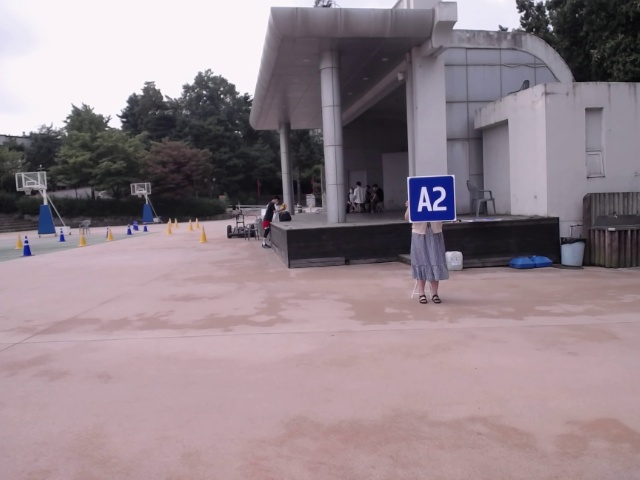delivery_a2: (407, 176, 455, 222)
